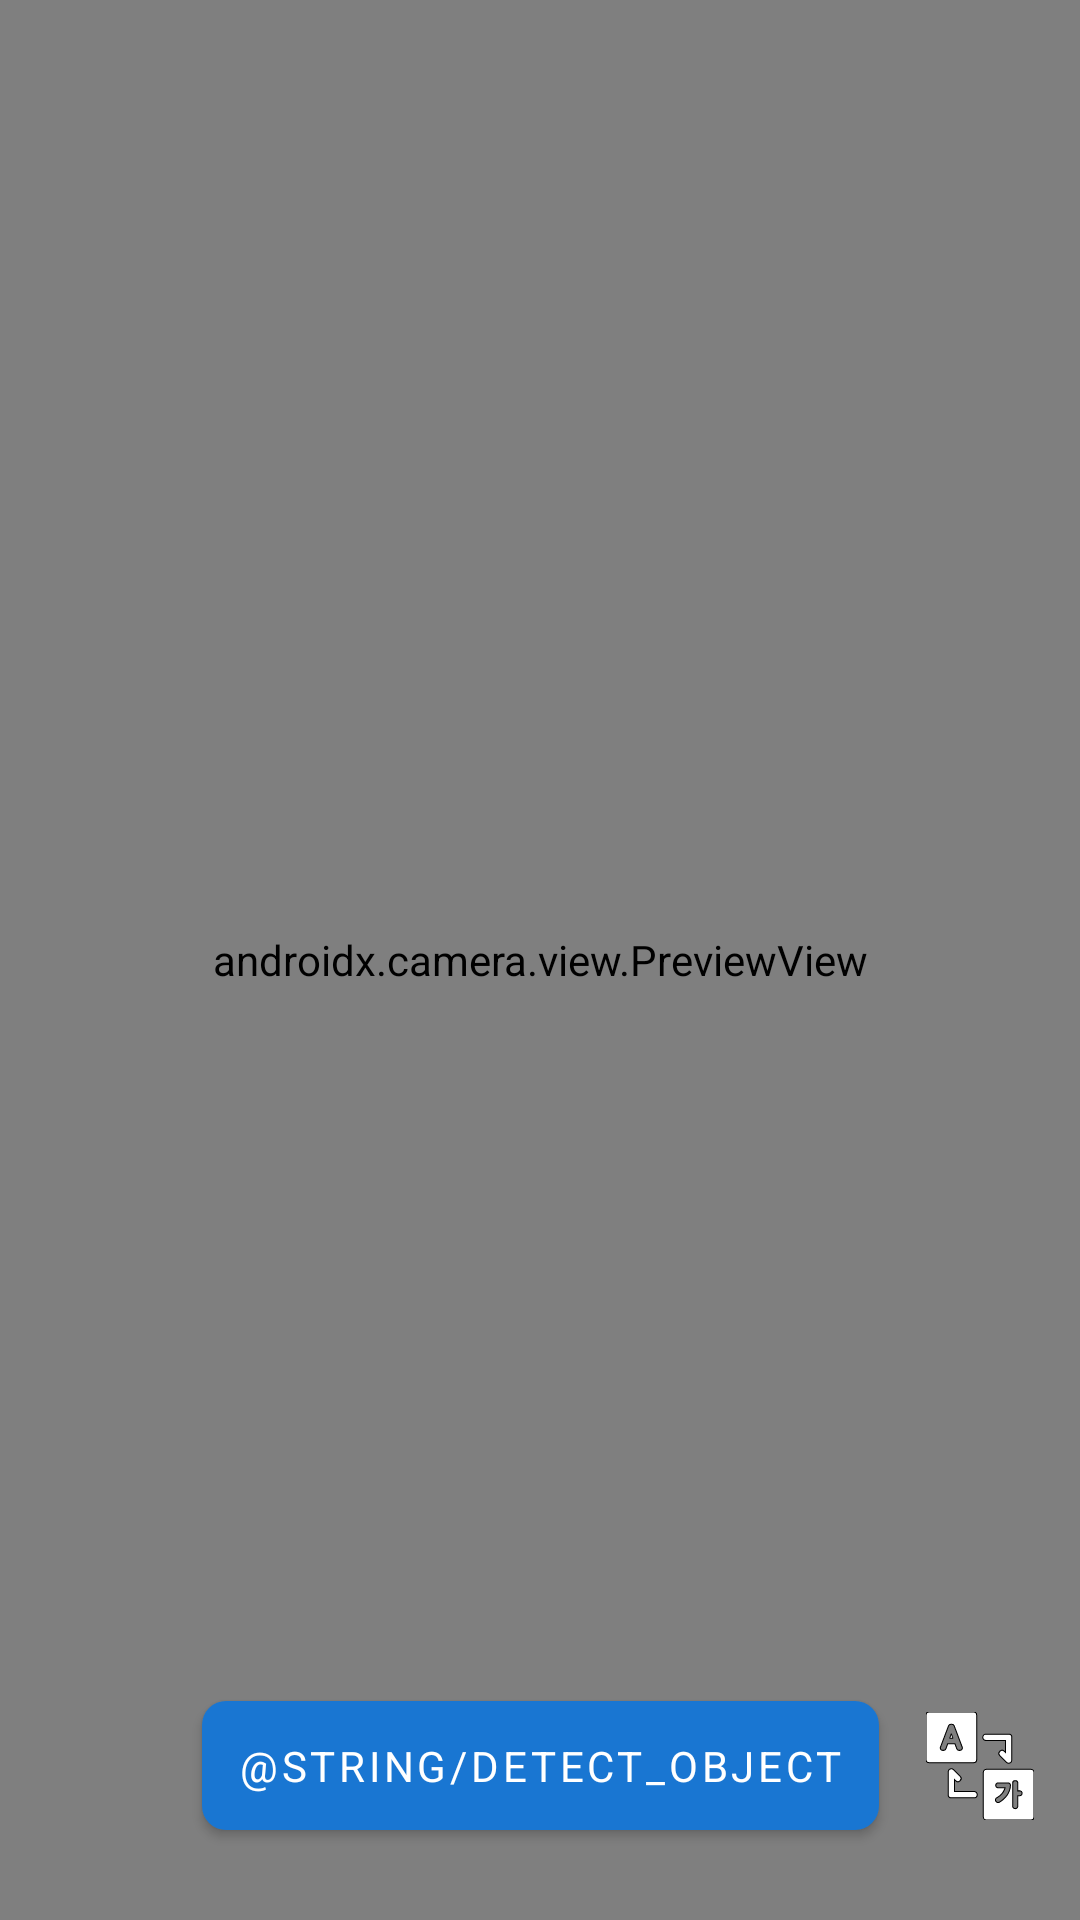

Icons on this 1080 x 1920 Android screen, each with the point to tap as (x=x, y=y):
Results of translation: (x=980, y=1766)
